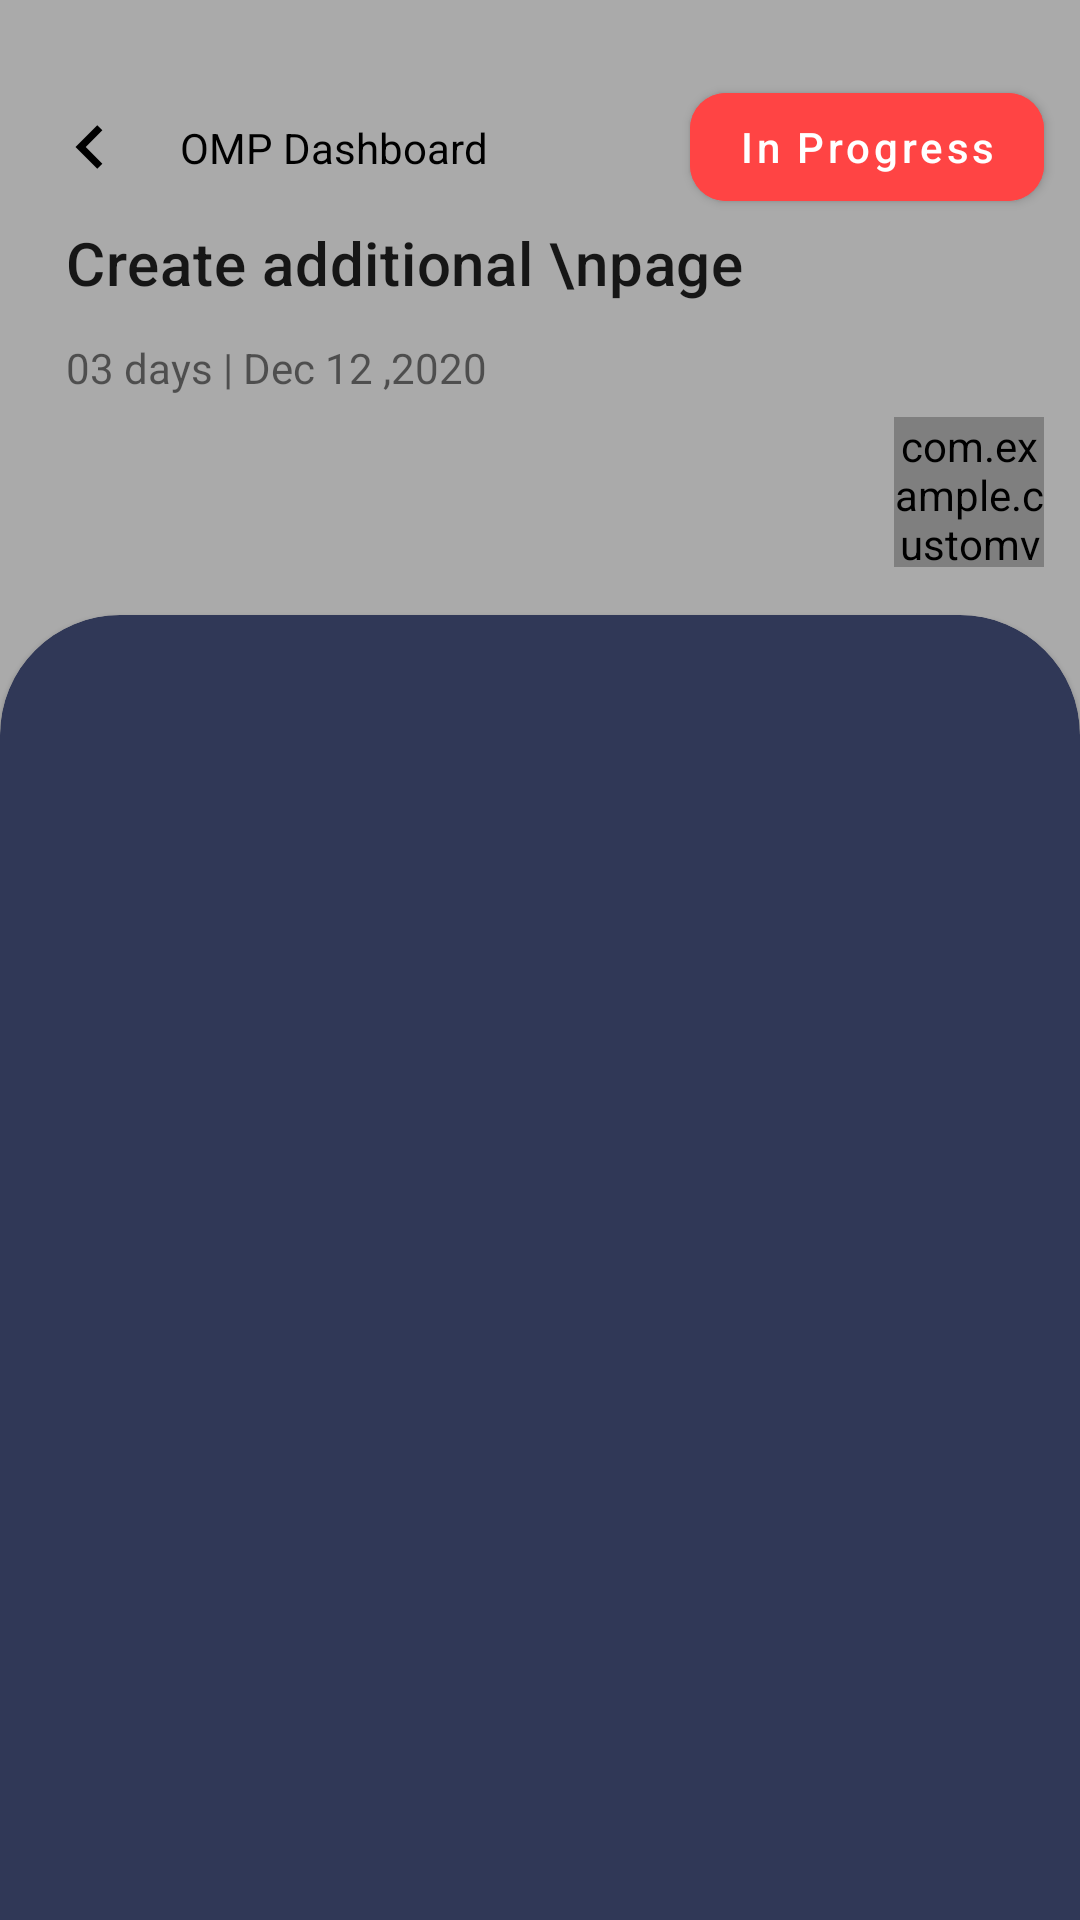

Point at icon controls on the screen. Image size 1080 x 1920, points as [x,y].
back: [89,147]
